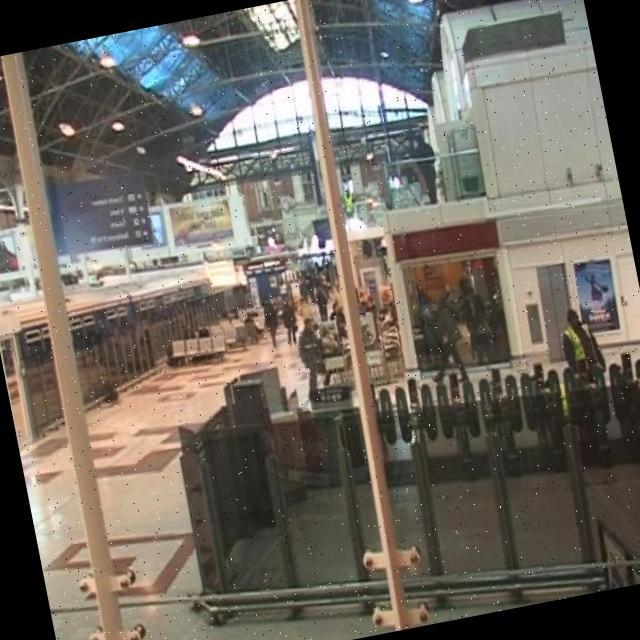person: (552, 306, 608, 372), (256, 292, 286, 354), (275, 294, 304, 346)
